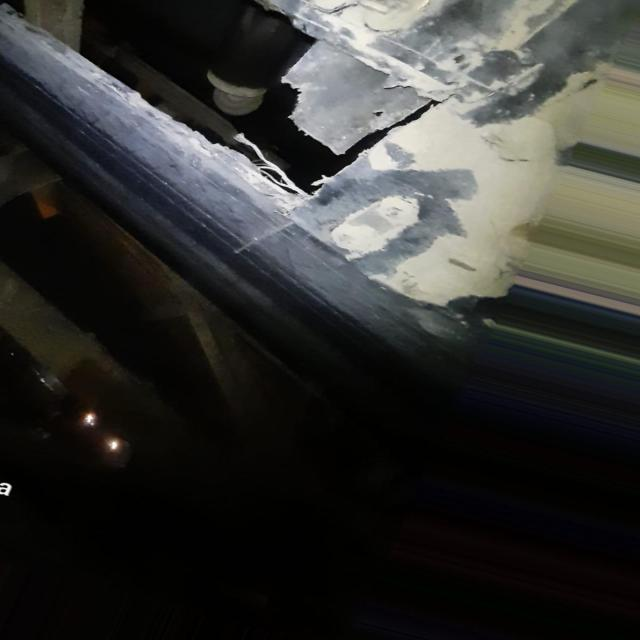Hole: (5, 1, 441, 201)
